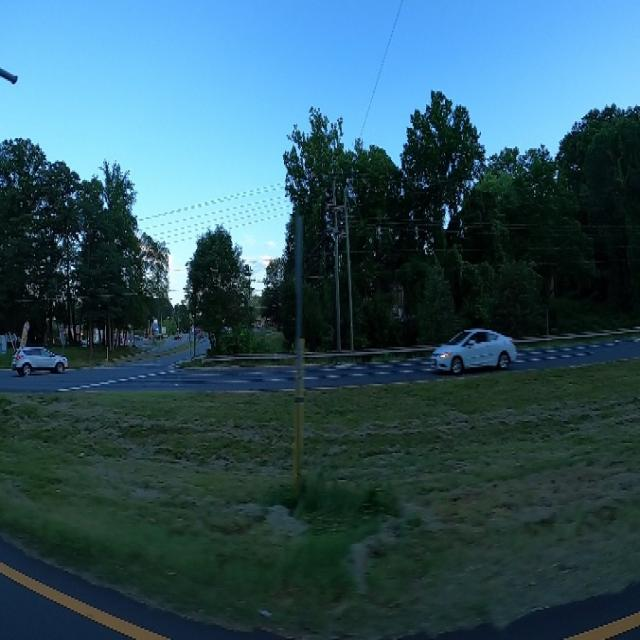cars: (428, 322, 520, 378), (10, 339, 72, 379)
